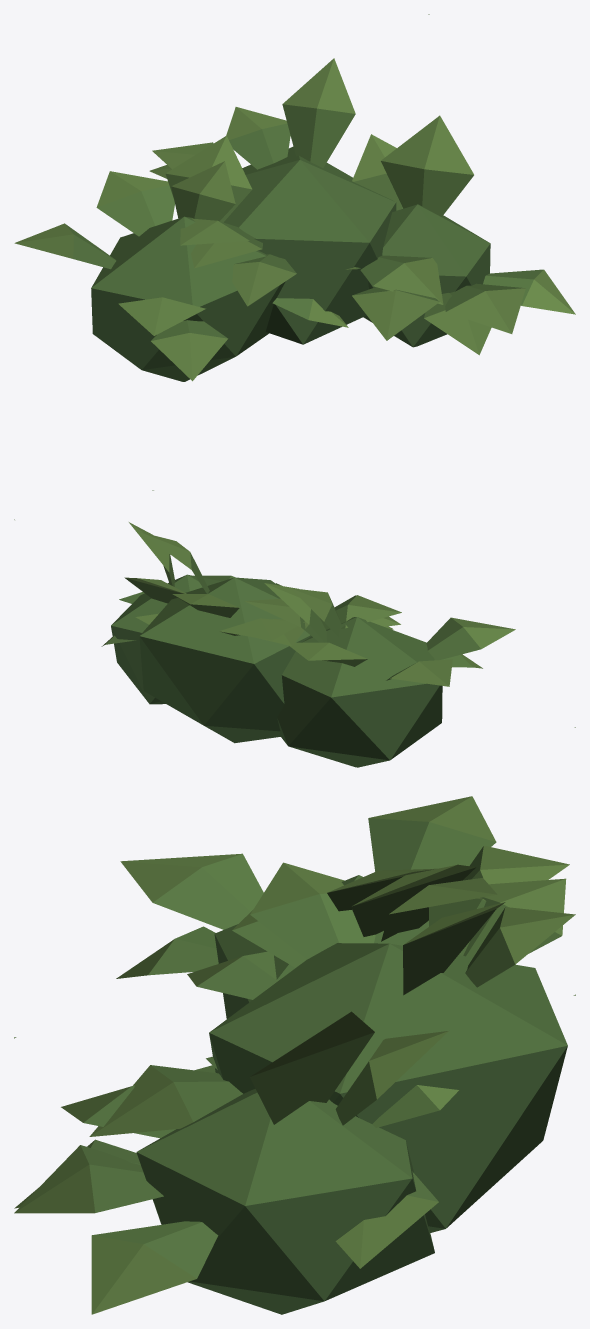
The model's file is Bush2_lite_leaf.glb.
3 views of the same model, one above another, from view 1: azimuth 30°, elevation 25°; view 2: azimuth 150°, elevation 25°; view 3: azimuth 270°, elevation 25° (orthographic). The views are drawn at different scales.
Parts seen in each view (by area): view 1: Bush2_lite_leaf; view 2: Bush2_lite_leaf; view 3: Bush2_lite_leaf.
Boxes of the visible parts, left/top/right/bottom form: Bush2_lite_leaf: left=14, top=14, right=575, bottom=490; Bush2_lite_leaf: left=14, top=519, right=575, bottom=767; Bush2_lite_leaf: left=14, top=796, right=575, bottom=1314.
Size of the model in its own units: 5.53 by 2.88 by 3.65.
